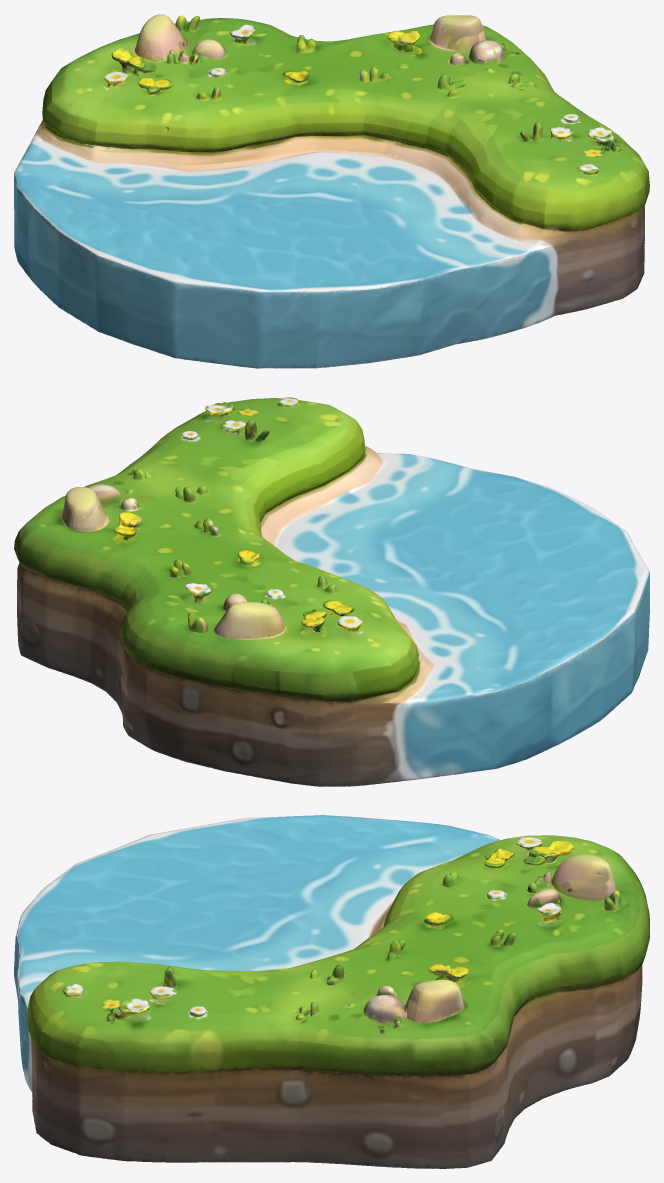
File: ter_water_edge_01.glb
3 views of the same model, one above another, from view 1: azimuth 30°, elevation 25°; view 2: azimuth 150°, elevation 25°; view 3: azimuth 270°, elevation 25° (orthographic). The views are drawn at different scales.
Parts seen in each view (by area): view 1: geometry_0; view 2: geometry_0; view 3: geometry_0.
Boxes of the visible parts, x1,y1,x2,y2 form: geometry_0: [14, 14, 649, 368]; geometry_0: [14, 397, 649, 786]; geometry_0: [14, 815, 649, 1168].
Size of the model in its own units: 0.32 by 0.0894 by 0.3184.
Materials: 1 (1 with a texture image).
